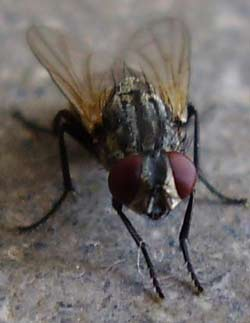house fly: (13, 14, 247, 298)
